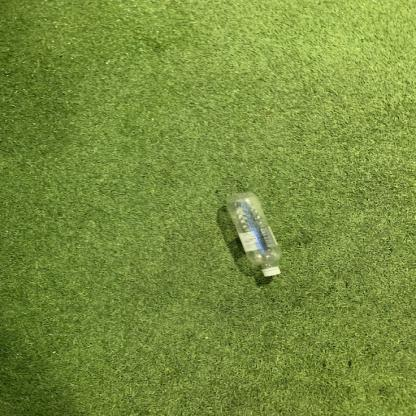trash: (224, 192, 285, 281)
